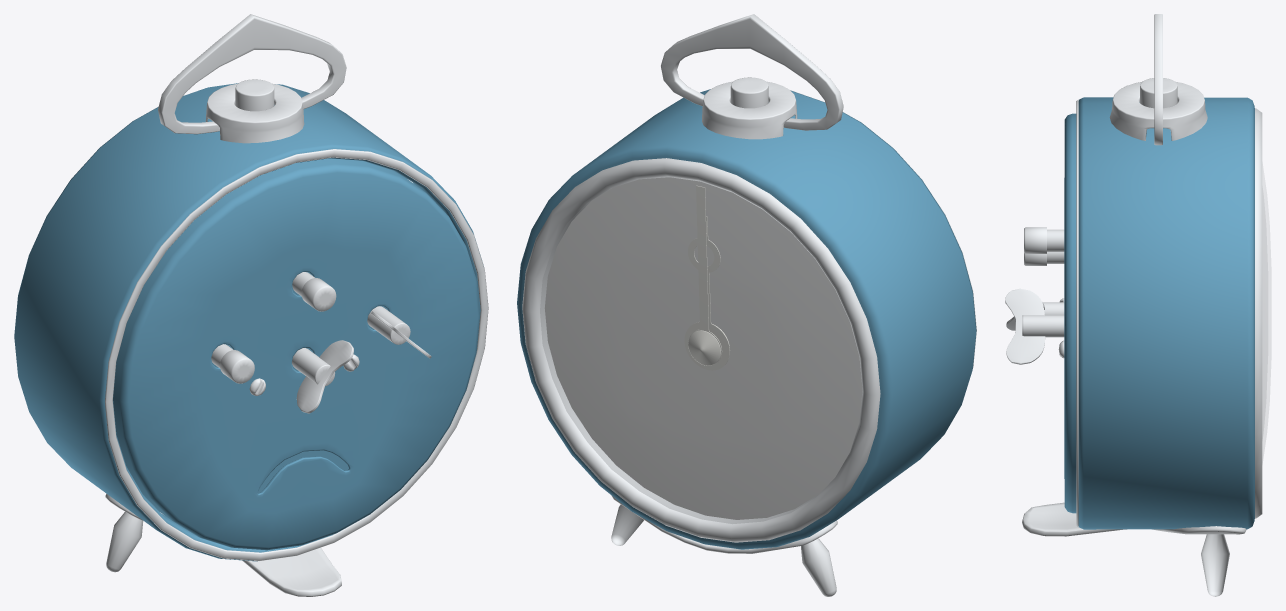
File: vityaz.glb
The picture shows the model from 3 angles, left to right: view 1: azimuth 30°, elevation 25°; view 2: azimuth 150°, elevation 25°; view 3: azimuth 270°, elevation 25°; orthographic projection. The views are drawn at different scales.
Parts seen in each view (by area): view 1: vityaz_korpus, vityaz_hrom; view 2: vityaz_steklo, vityaz_ciferblat, vityaz_korpus, vityaz_hrom, vityaz_chasovaya, vityaz_minutnaya; view 3: vityaz_korpus, vityaz_hrom, vityaz_steklo.
Boxes of the visible parts, x1,y1,x2,y2 form: vityaz_korpus: [14, 83, 483, 561]; vityaz_hrom: [105, 14, 488, 596]; vityaz_steklo: [540, 177, 861, 523]; vityaz_ciferblat: [544, 177, 862, 519]; vityaz_korpus: [517, 89, 976, 549]; vityaz_hrom: [522, 14, 976, 596]; vityaz_chasovaya: [684, 216, 730, 370]; vityaz_minutnaya: [688, 185, 722, 365]; vityaz_korpus: [1064, 97, 1254, 529]; vityaz_hrom: [1005, 14, 1262, 596]; vityaz_steklo: [1262, 164, 1271, 462].
Size of the model in its own units: 0.1143 by 0.155 by 0.0705.
